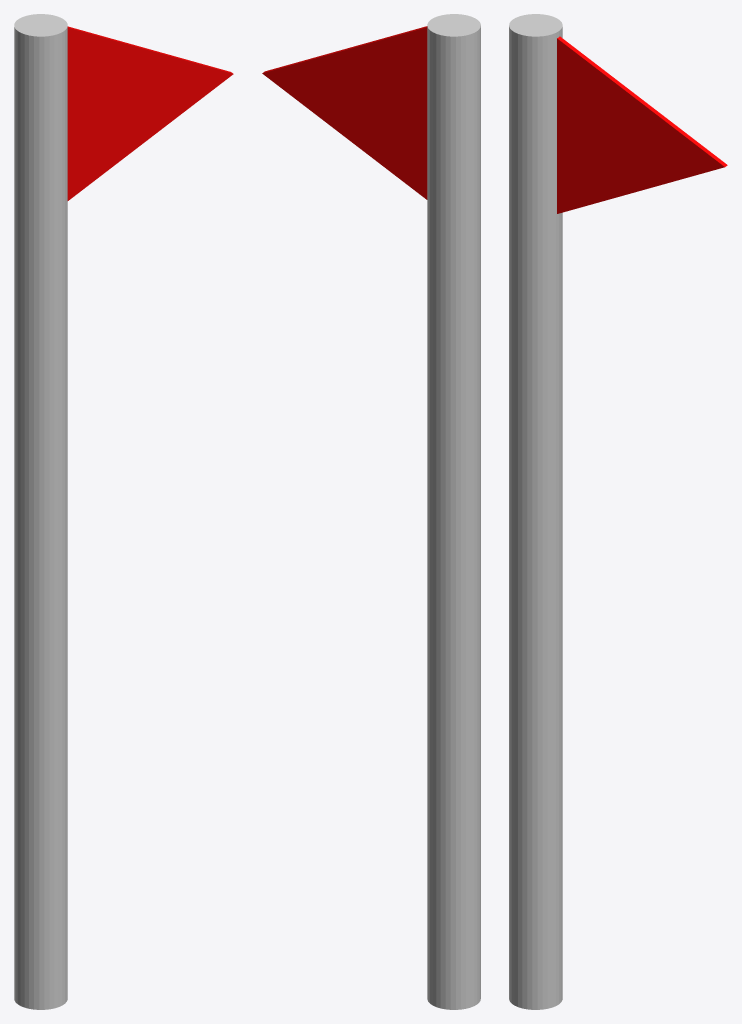
The model's file is flag-c.dae.
3 renders of one model, left to right at view 1: azimuth 30°, elevation 25°; view 2: azimuth 150°, elevation 25°; view 3: azimuth 330°, elevation 25°, orthographic.
Parts seen in each view (by area): view 1: Cylinder, flag; view 2: Cylinder, flag; view 3: Cylinder, flag.
Part boxes in pixels (x1=…): Cylinder: x1=14, y1=14, x2=67, y2=1009; flag: x1=67, y1=26, x2=233, y2=200; Cylinder: x1=427, y1=14, x2=480, y2=1009; flag: x1=262, y1=26, x2=427, y2=199; Cylinder: x1=509, y1=14, x2=562, y2=1009; flag: x1=557, y1=36, x2=727, y2=213.
Size of what is drawn, in the model's own units: 0.4608 by 0.1 by 2.
